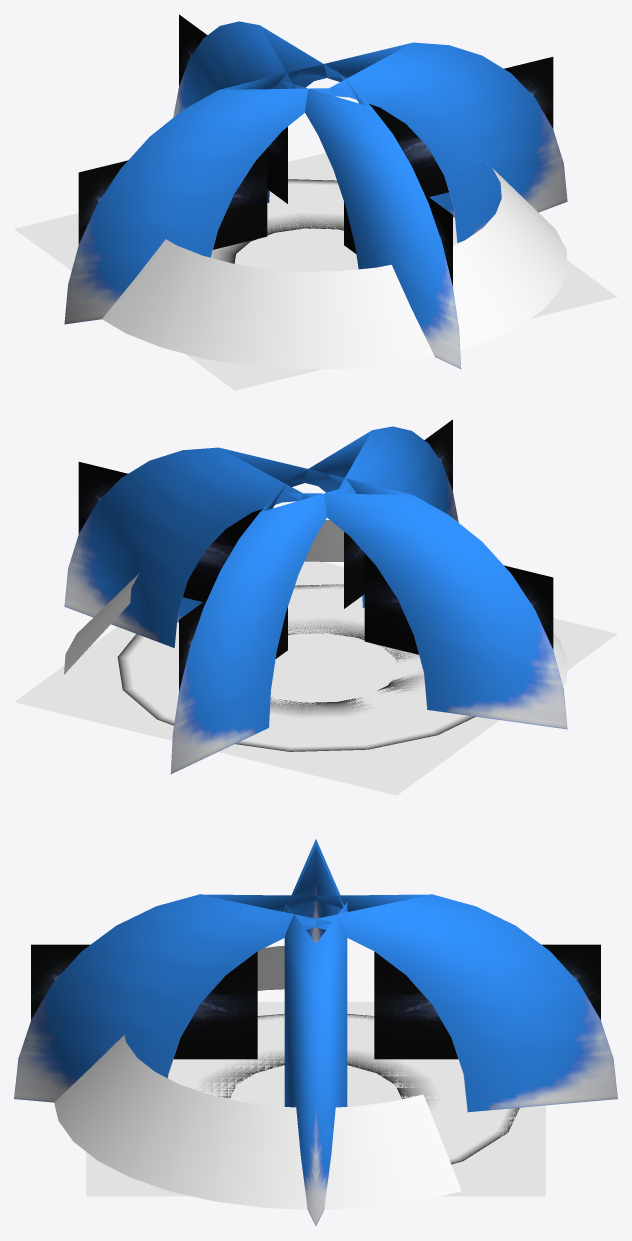
Rendered from cjb.FBX.
3 views of the same model, one above another, from view 1: azimuth 30°, elevation 25°; view 2: azimuth 150°, elevation 25°; view 3: azimuth 270°, elevation 25° (orthographic). The views are drawn at different scales.
Visible parts, largest first — view 1: Sphere02, Sphere01, Plane03, Plane01, Tube01; view 2: Sphere02, Plane01, Tube01, Plane03, Sphere01; view 3: Sphere02, Sphere01, Plane01, Plane03, Tube01.
Part boxes in pixels (x1,y1,x2,y2): Sphere02: (64, 21, 567, 368); Sphere01: (102, 162, 567, 369); Plane03: (78, 14, 553, 286); Plane01: (14, 153, 617, 390); Tube01: (211, 179, 463, 263); Sphere02: (64, 426, 567, 773); Plane01: (14, 561, 617, 795); Tube01: (117, 584, 475, 751); Plane03: (78, 419, 553, 691); Sphere01: (64, 520, 567, 686); Sphere02: (14, 839, 617, 1225); Sphere01: (54, 946, 461, 1209); Plane01: (86, 1002, 545, 1196); Plane03: (31, 944, 600, 1059); Tube01: (168, 1014, 519, 1164).
Size of what is drawn, in the model's own units: 2.93 by 2.93 by 1.1.
2 materials, 2 textured.
